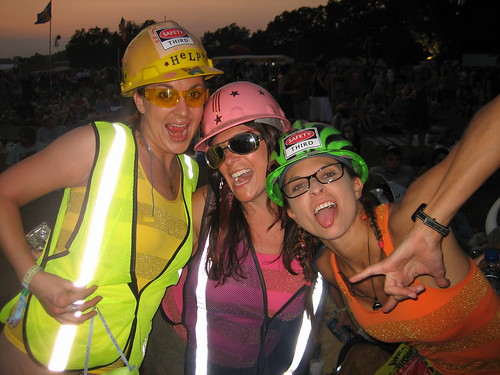person hardhat: (3, 24, 193, 374), (262, 104, 500, 373), (176, 65, 318, 375)
